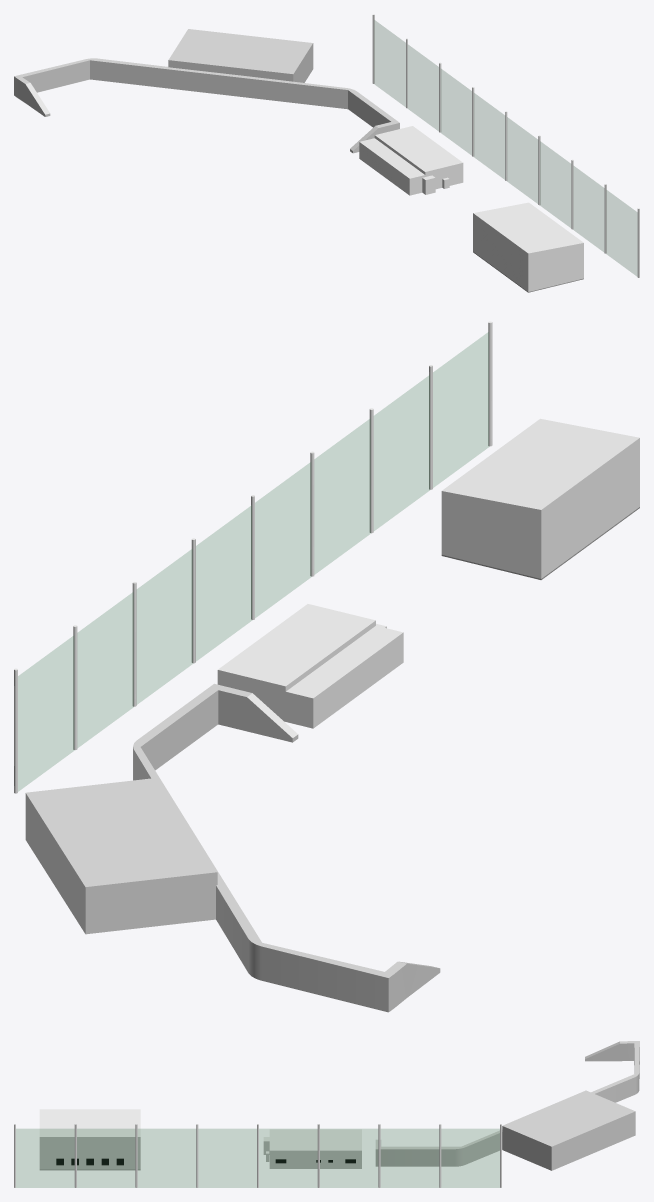
The model's file is BaseballBuindings.fbx.
3 renders of one model, top to bottom at view 1: azimuth 30°, elevation 25°; view 2: azimuth 150°, elevation 25°; view 3: azimuth 270°, elevation 25°, orthographic. The views are drawn at different scales.
Parts seen in each view (by area): view 1: BaseballFense, BaseballAudience, BaseballBuilding1, BaseballBuilding2; view 2: BaseballFense, BaseballAudience, BaseballBuilding1, BaseballBuilding2; view 3: BaseballFense, BaseballAudience, BaseballBuilding1, BaseballBuilding2.
Part boxes in pixels (x1,y1,x2,y2): BaseballFense: [372, 14, 639, 277]; BaseballAudience: [14, 29, 399, 153]; BaseballBuilding1: [473, 202, 583, 292]; BaseballBuilding2: [359, 126, 463, 195]; BaseballFense: [14, 321, 492, 793]; BaseballAudience: [25, 683, 440, 1012]; BaseballBuilding1: [441, 418, 639, 579]; BaseballBuilding2: [217, 604, 403, 728]; BaseballFense: [14, 1124, 501, 1187]; BaseballAudience: [375, 1041, 639, 1170]; BaseballBuilding1: [39, 1109, 140, 1170]; BaseballBuilding2: [263, 1129, 361, 1168].
Size of the model in its own units: 124 by 29.32 by 258.
